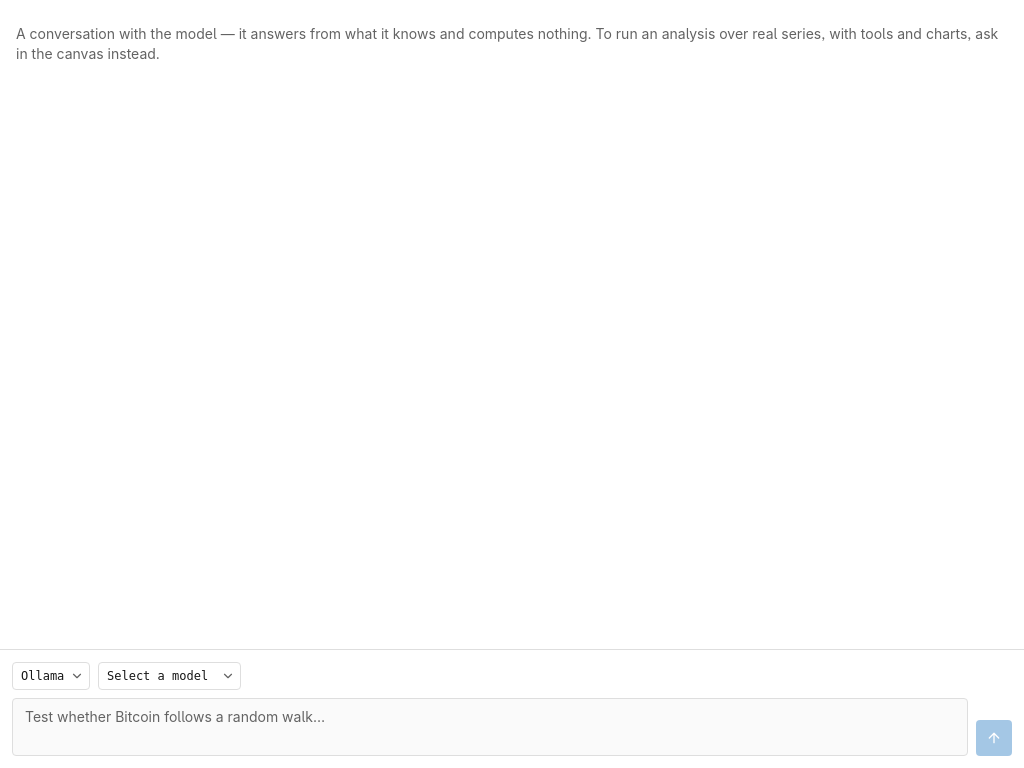
Test: Conversation › does not label the placeholder with provenance before the first token
Select "llama3.2:latest" in the dropdown named "Model" at (170, 676), box [98,662,241,690]
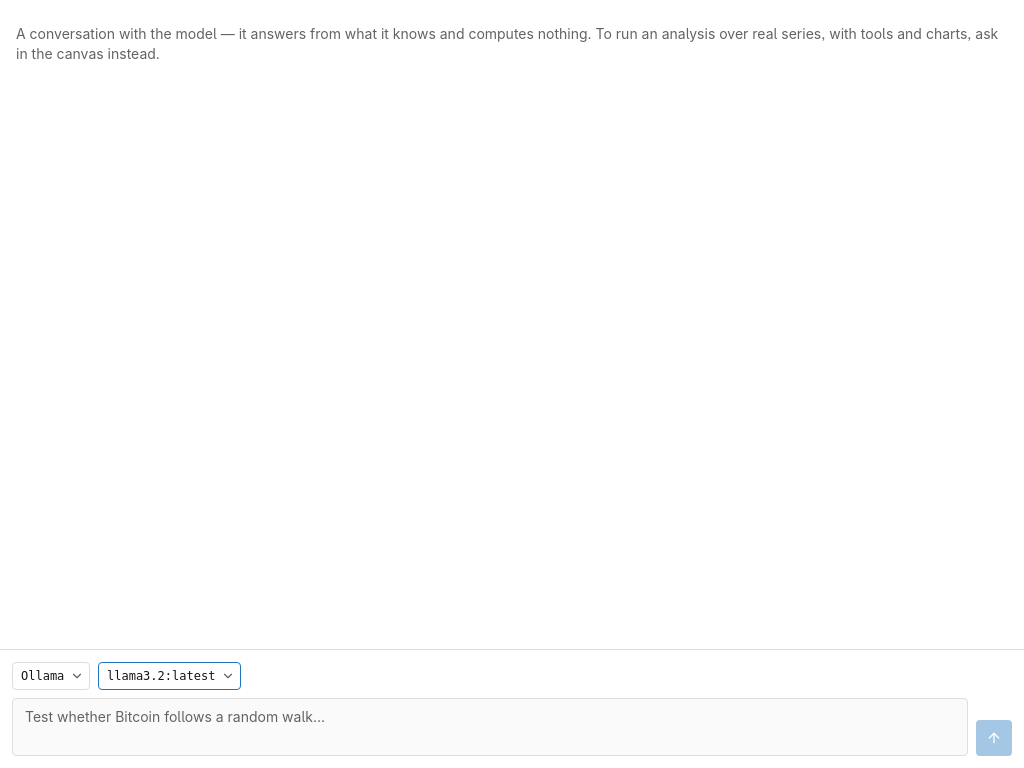
Type "beta?" into the text box named "Message" at (490, 727), box [12,698,968,756]
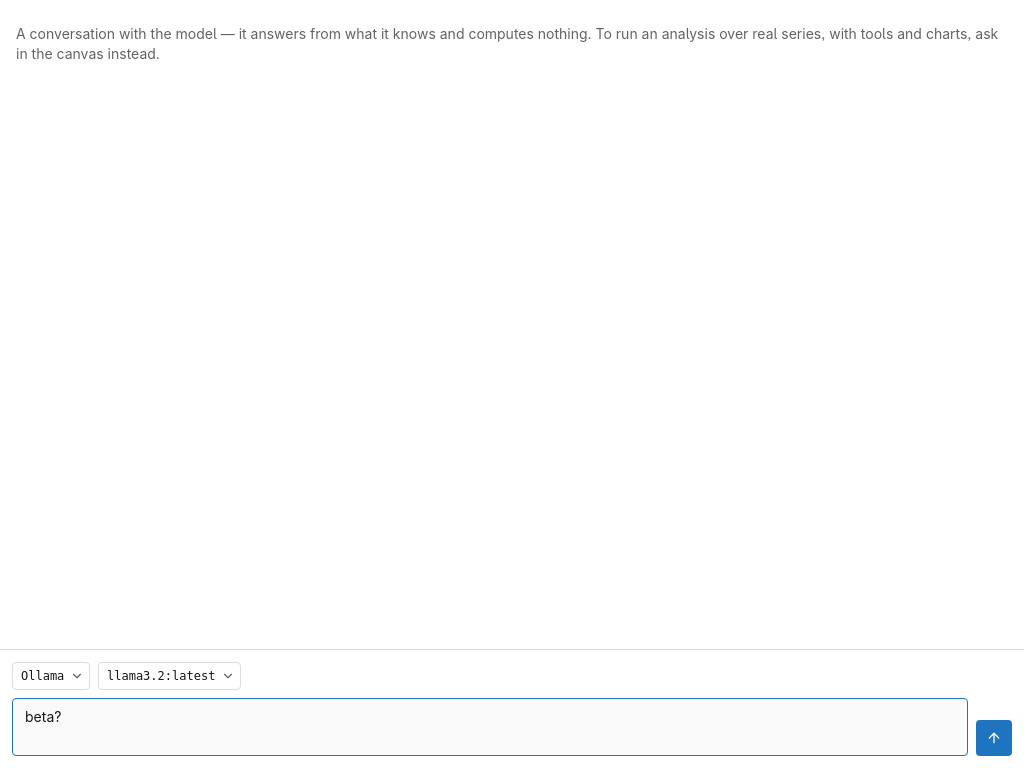
Click the button named "Send message" at (994, 738), box [976,720,1012,756]
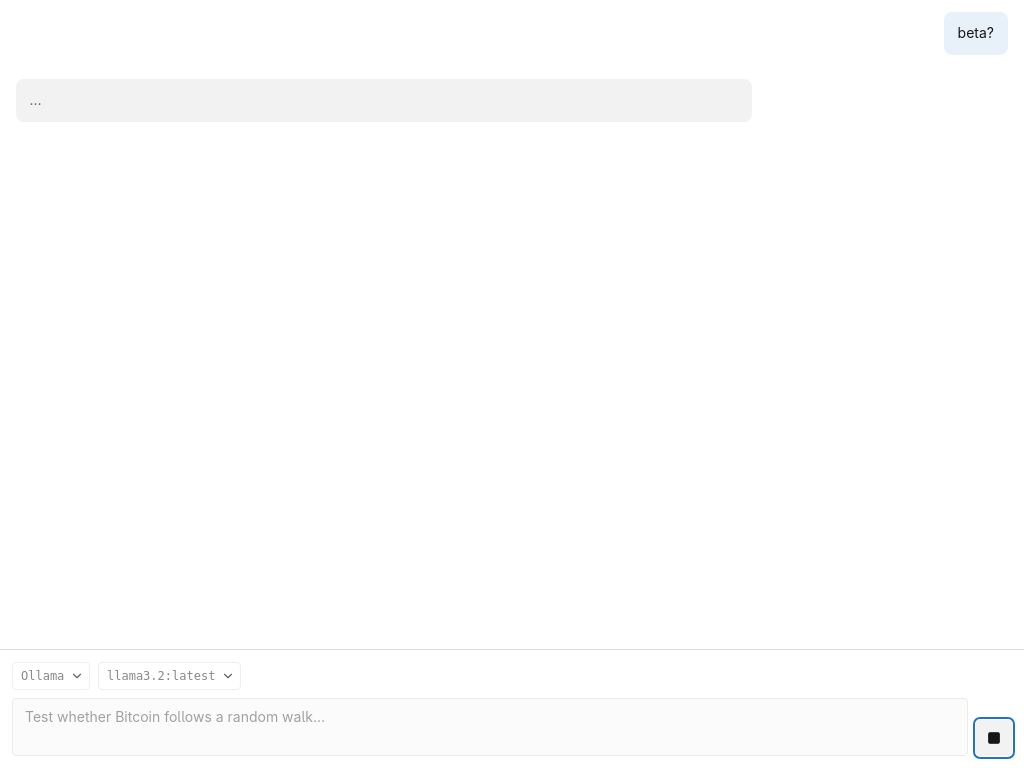
Now the text named "Thinking" is shown, box [30,91,42,108]
